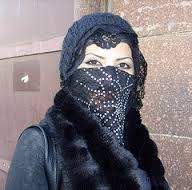OK: (77, 50, 140, 113)
